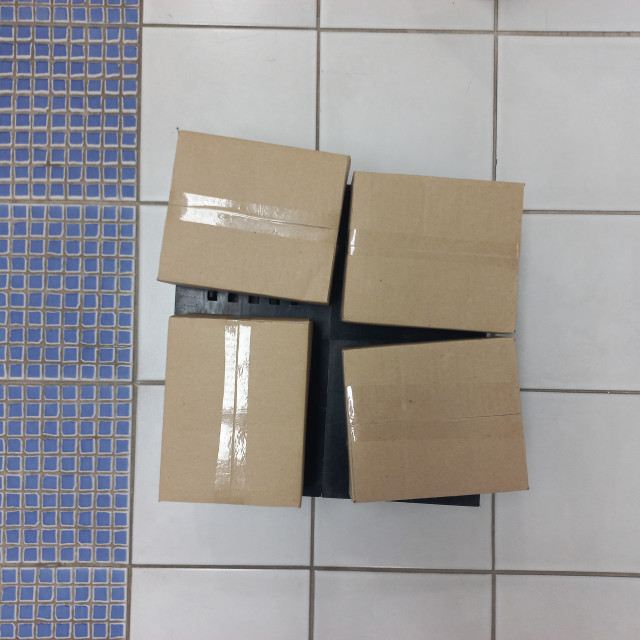box: (296, 333, 444, 514), (164, 302, 305, 473), (162, 137, 303, 305), (327, 130, 441, 327)
